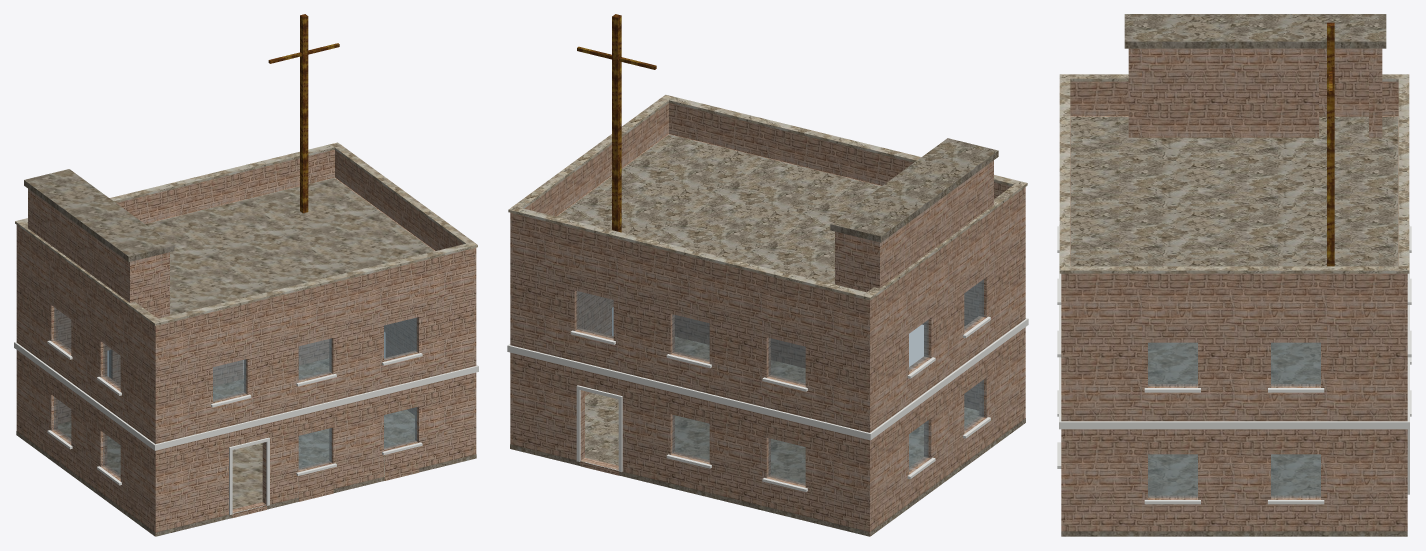
Rendered from harbour-office.zfix-v14.lod1.glb.
The picture shows the model from 3 angles, left to right: view 1: azimuth 30°, elevation 25°; view 2: azimuth 150°, elevation 25°; view 3: azimuth 270°, elevation 25°; orthographic projection. The views are drawn at different scales.
Visible parts, largest first — view 1: harbour-office; view 2: harbour-office; view 3: harbour-office.
Boxes of the visible parts, x1=… form: harbour-office: x1=14, y1=14, x2=478, y2=536; harbour-office: x1=507, y1=14, x2=1028, y2=536; harbour-office: x1=1057, y1=14, x2=1411, y2=536.
Size of the model in its own units: 12.2 by 13.57 by 9.2.
Materials: 5 (3 with a texture image).
